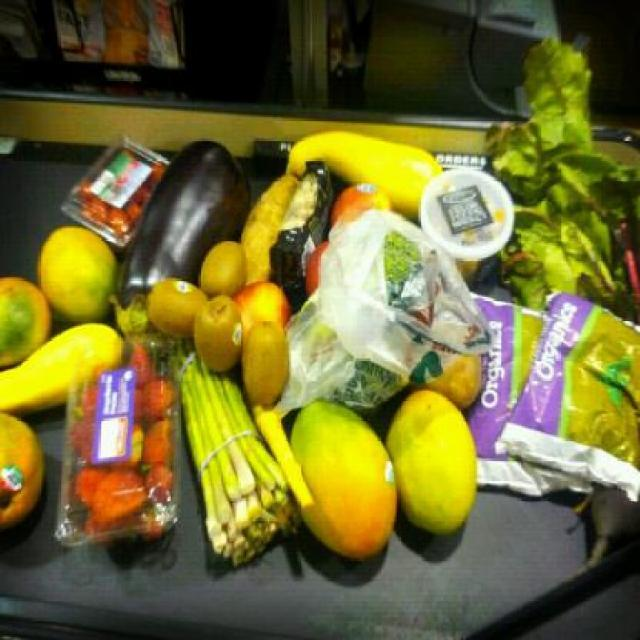Lemon: (291, 404, 395, 564), (388, 392, 478, 534), (36, 228, 112, 320)
